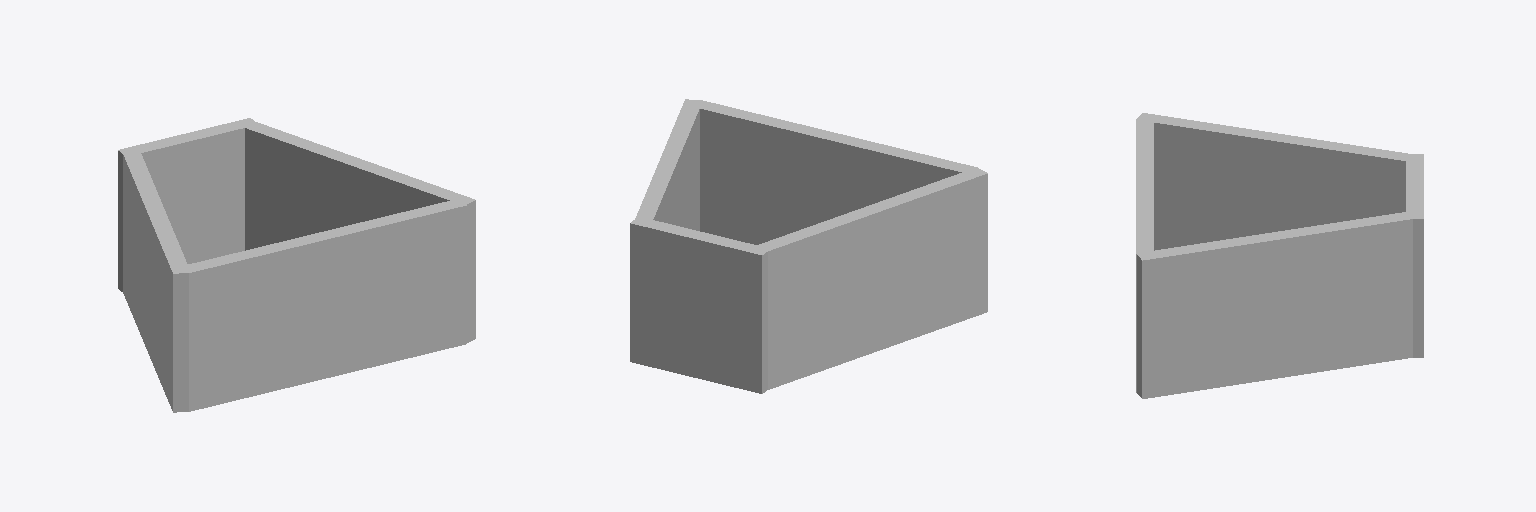
The model's file is HighlightO.obj.
3 views of the same model, side by side, from view 1: azimuth 30°, elevation 25°; view 2: azimuth 150°, elevation 25°; view 3: azimuth 270°, elevation 25° (orthographic).
Visible parts, largest first — view 1: CrossBar (2), CrossBar (1), CrossBar (3), CrossBar; view 2: CrossBar, CrossBar (2), CrossBar (3), CrossBar (1); view 3: CrossBar (1), CrossBar, CrossBar (3), CrossBar (2).
Part boxes in pixels (bbox=[...]): CrossBar (2): bbox=[188, 200, 466, 411]; CrossBar (1): bbox=[241, 122, 475, 342]; CrossBar (3): bbox=[118, 118, 258, 291]; CrossBar: bbox=[123, 151, 190, 412]; CrossBar: bbox=[758, 167, 987, 389]; CrossBar (2): bbox=[700, 100, 977, 244]; CrossBar (3): bbox=[630, 220, 769, 393]; CrossBar (1): bbox=[635, 99, 702, 230]; CrossBar (1): bbox=[1136, 211, 1414, 398]; CrossBar: bbox=[1136, 113, 1415, 250]; CrossBar (3): bbox=[1406, 154, 1423, 357]; CrossBar (2): bbox=[1136, 120, 1153, 392].
Bounding box in the file's own units: 0.4803 × 0.21 × 0.395.